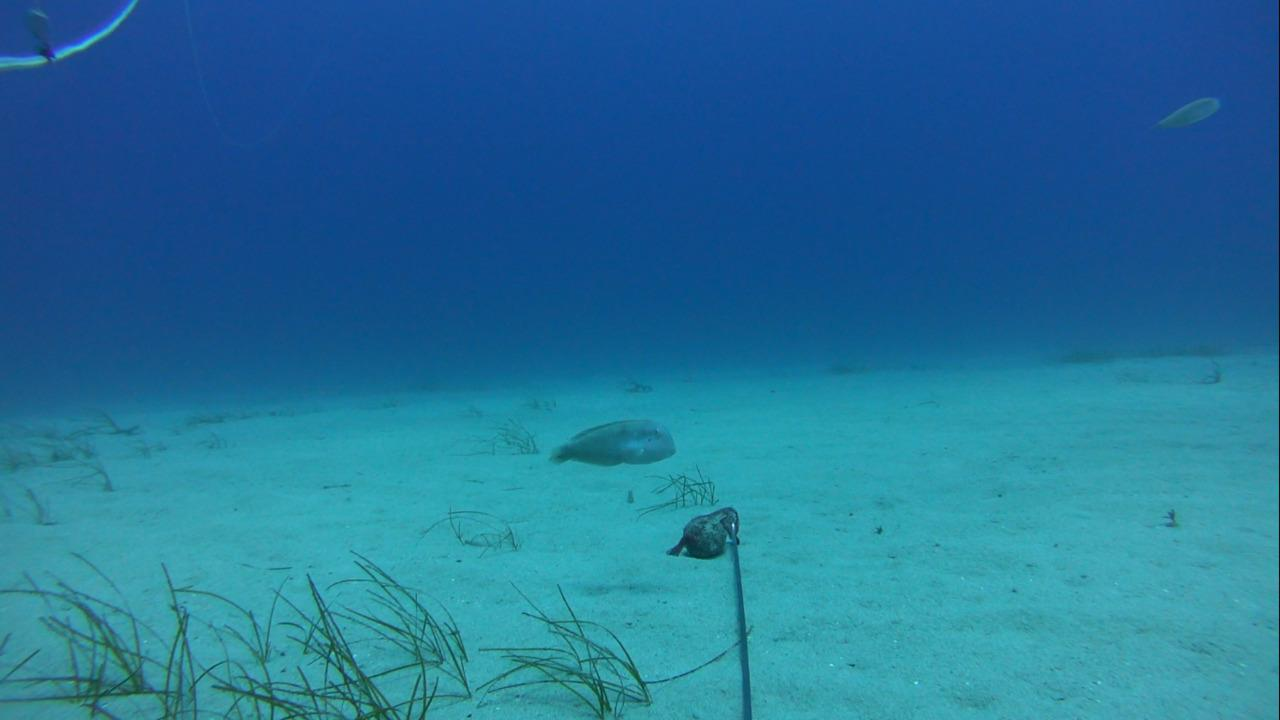raor: (539, 411, 694, 471), (1145, 92, 1225, 133)
